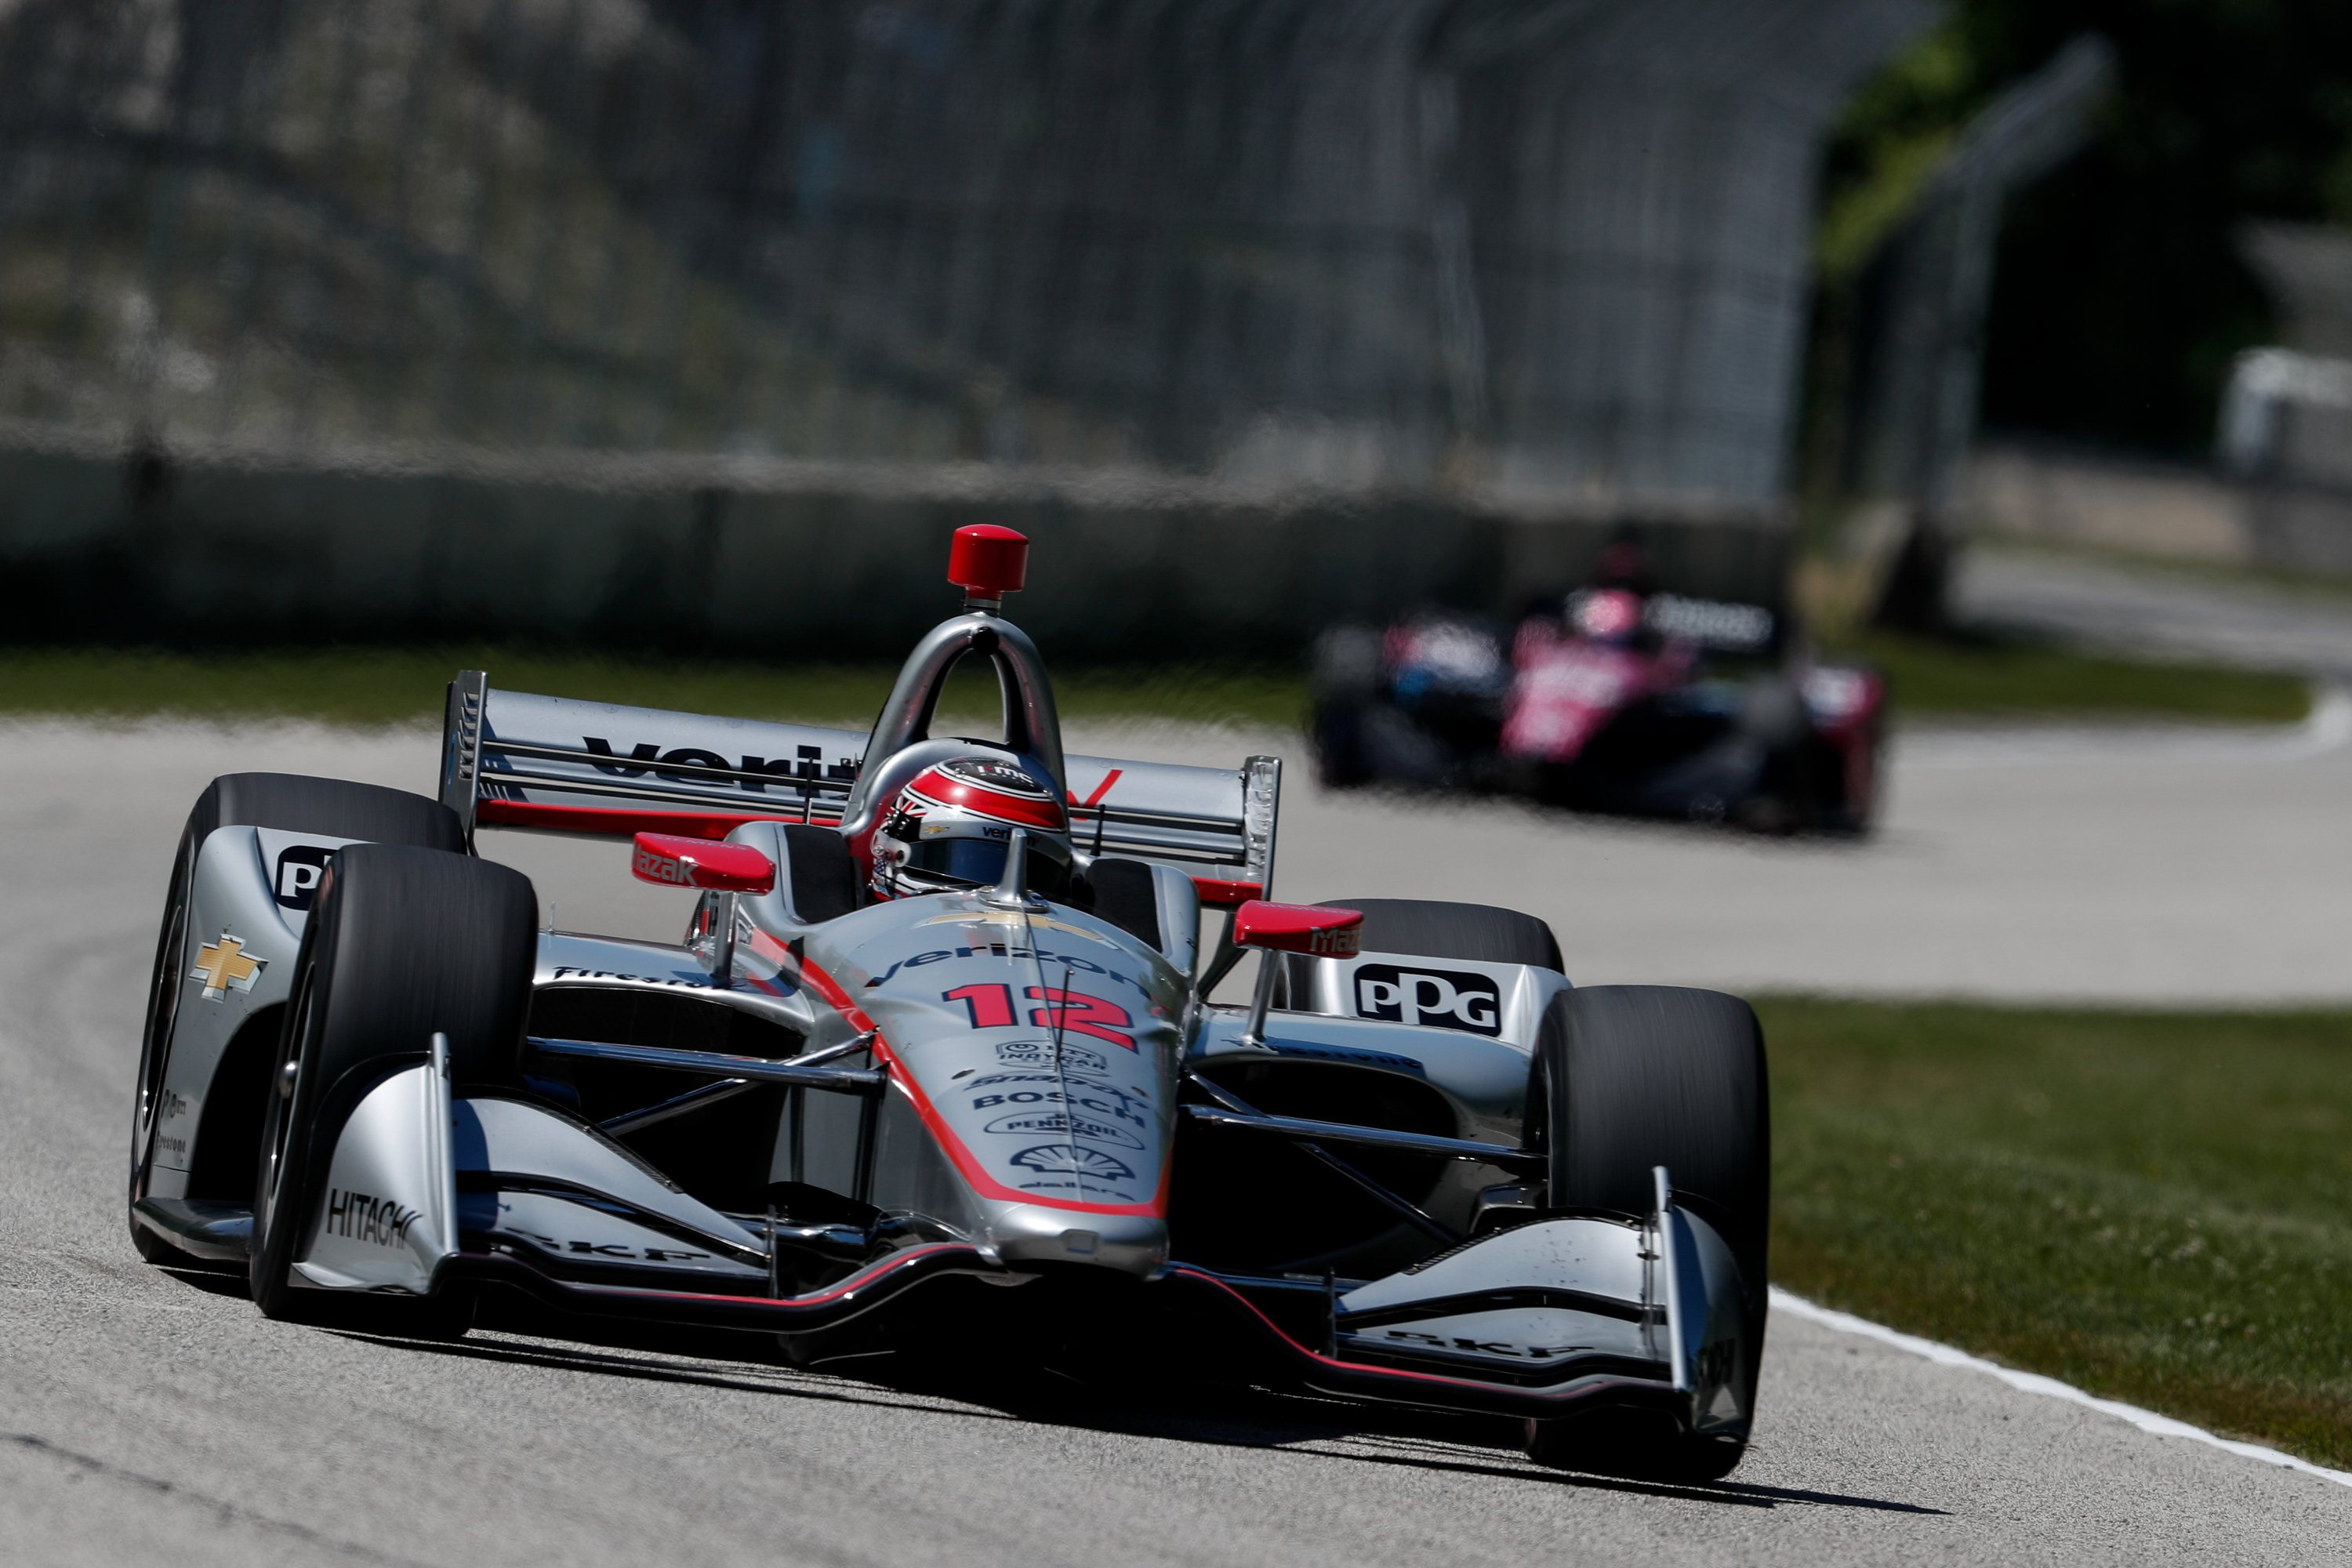f1_car: (95, 476, 1845, 1524)
helmet: (852, 739, 1096, 940)
